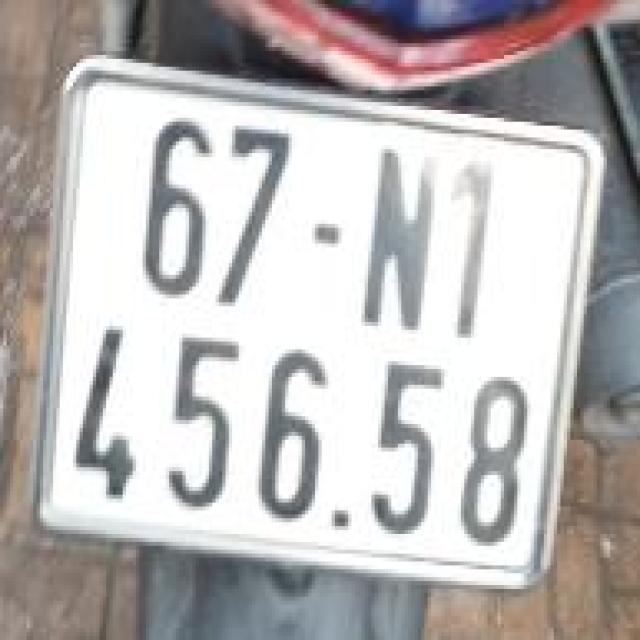1: (444, 146, 504, 346)
4: (70, 310, 146, 510)
5: (159, 326, 249, 526), (368, 348, 441, 528)
6: (133, 104, 212, 308), (255, 330, 335, 514)
7: (221, 120, 290, 316)
8: (459, 365, 549, 562)
N: (354, 138, 439, 338)
